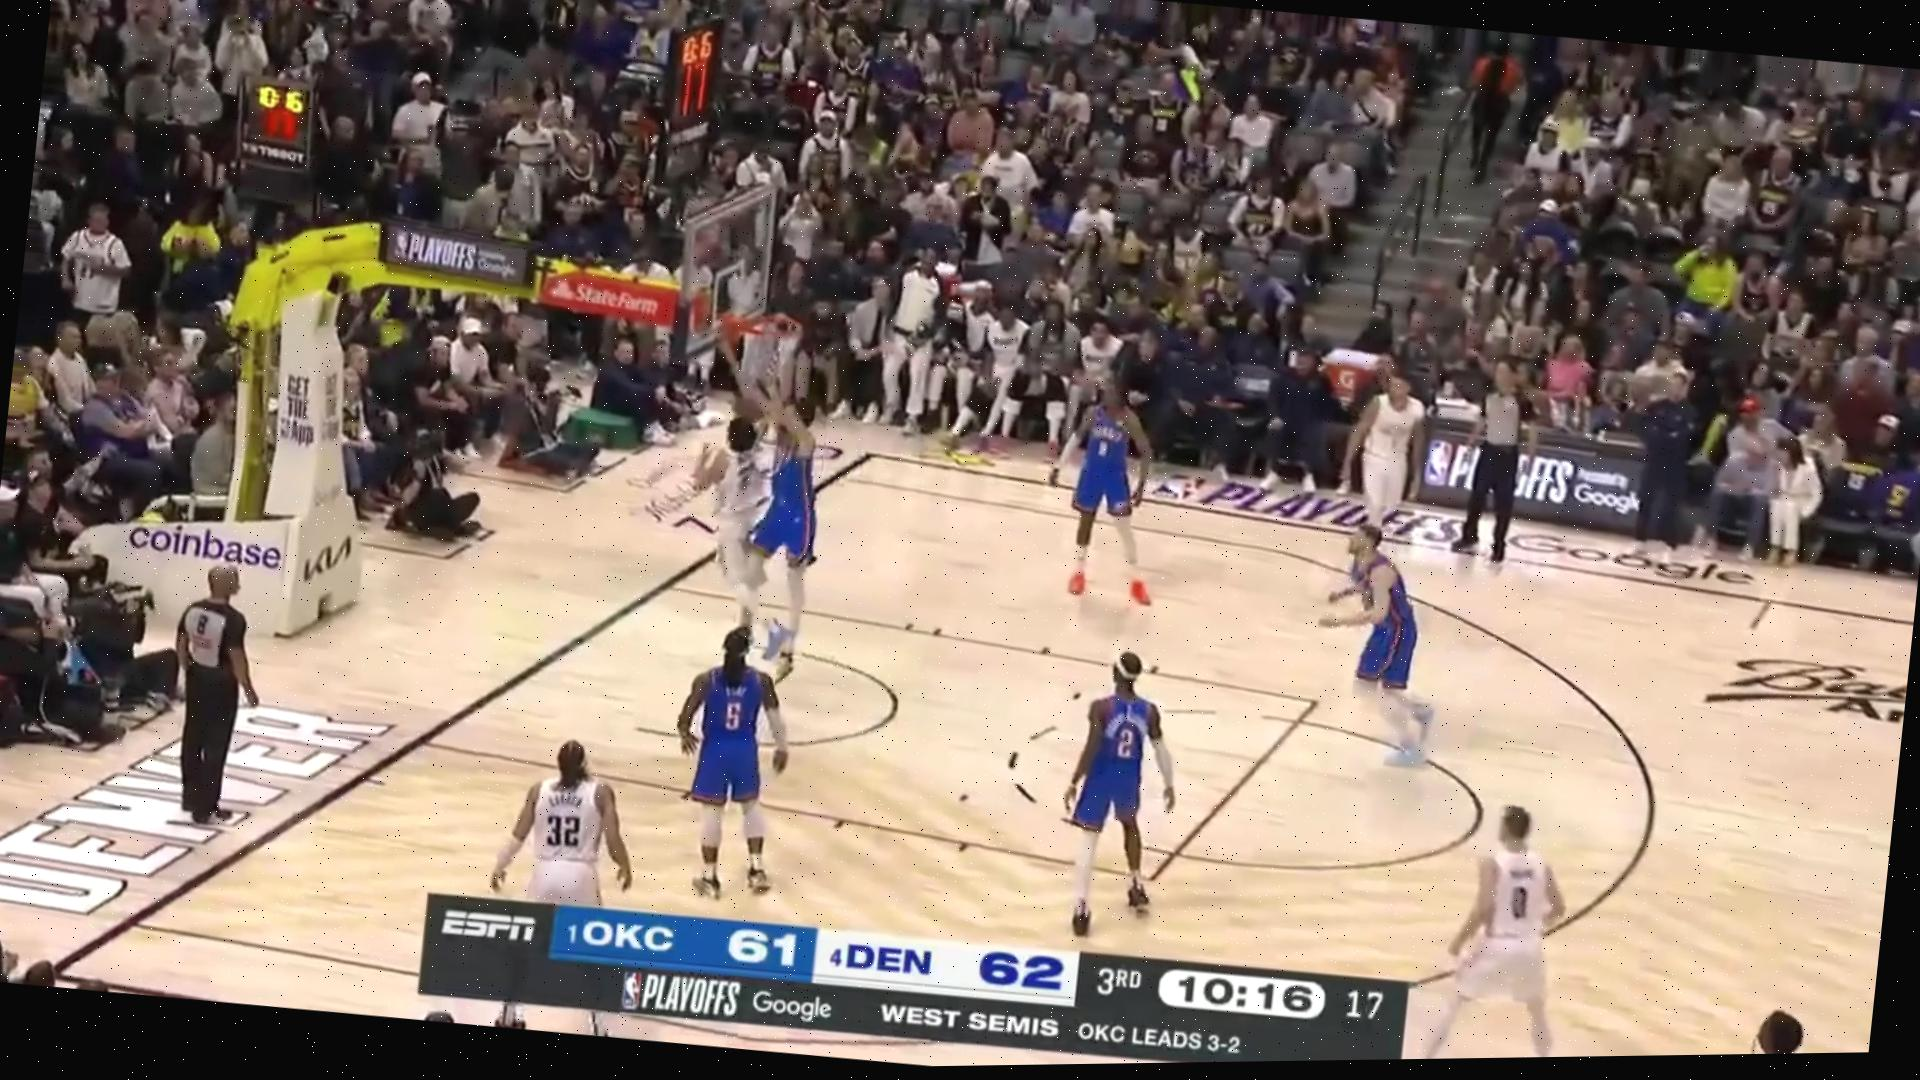foul: (667, 353, 868, 679)
